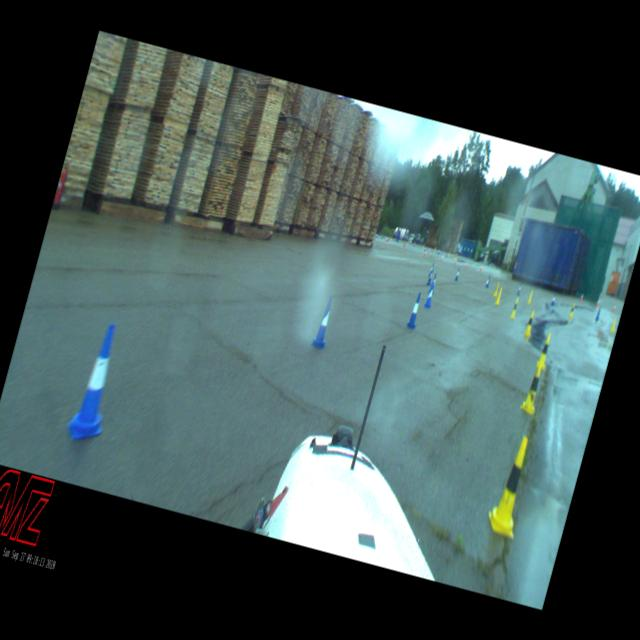blue_cone: (64, 318, 130, 446), (310, 294, 337, 348), (406, 290, 424, 328), (424, 282, 436, 308), (430, 273, 438, 294), (426, 270, 434, 286), (594, 306, 601, 320), (428, 262, 434, 277), (485, 275, 491, 287), (454, 268, 460, 280), (516, 283, 522, 295)
yellow_cone: (484, 433, 538, 538), (519, 359, 547, 414), (536, 332, 554, 368), (524, 310, 536, 336), (510, 297, 520, 318), (494, 286, 502, 304), (492, 282, 500, 296), (568, 304, 575, 318), (526, 290, 533, 303), (610, 317, 616, 332)
